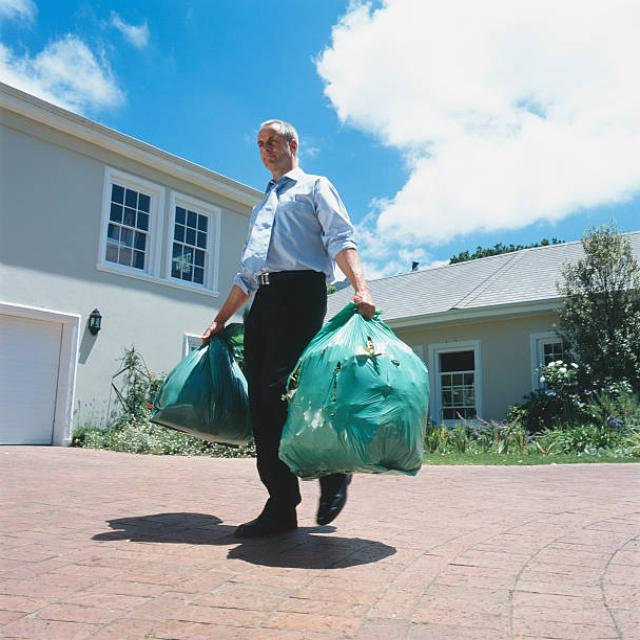trash: (282, 303, 420, 470), (166, 336, 246, 439)
